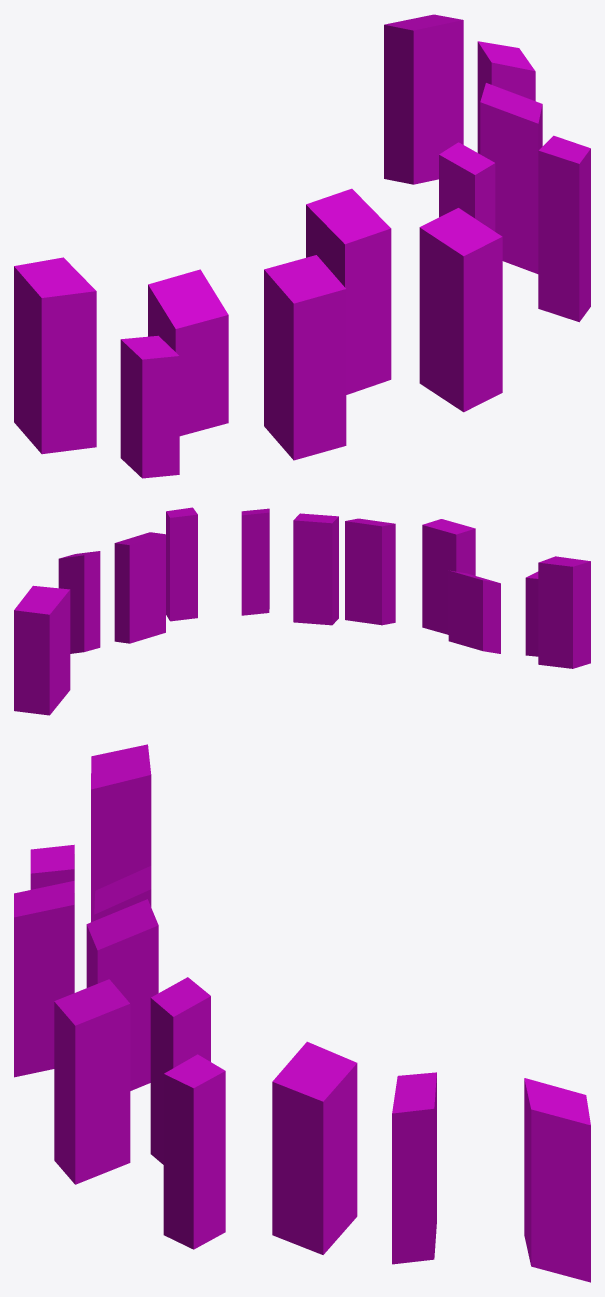
The model's file is M09_Z02_TeethBlock02.glb.
3 views of the same model, one above another, from view 1: azimuth 30°, elevation 25°; view 2: azimuth 150°, elevation 25°; view 3: azimuth 270°, elevation 25° (orthographic). The views are drawn at different scales.
Parts seen in each view (by area): view 1: M09_Z02_TEETHBLOCK02; view 2: M09_Z02_TEETHBLOCK02; view 3: M09_Z02_TEETHBLOCK02.
Part boxes in pixels (left/top/right/bottom): M09_Z02_TEETHBLOCK02: left=14, top=14, right=590, bottom=478; M09_Z02_TEETHBLOCK02: left=14, top=507, right=590, bottom=715; M09_Z02_TEETHBLOCK02: left=14, top=744, right=590, bottom=1282.
Bounding box in the file's own units: 33.54 × 10.77 × 25.46.
